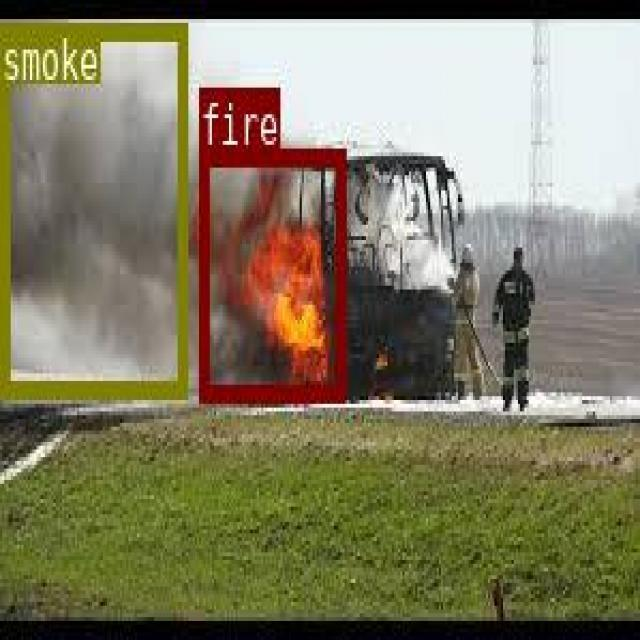fire: (198, 146, 344, 399)
smoke: (0, 19, 184, 396)
